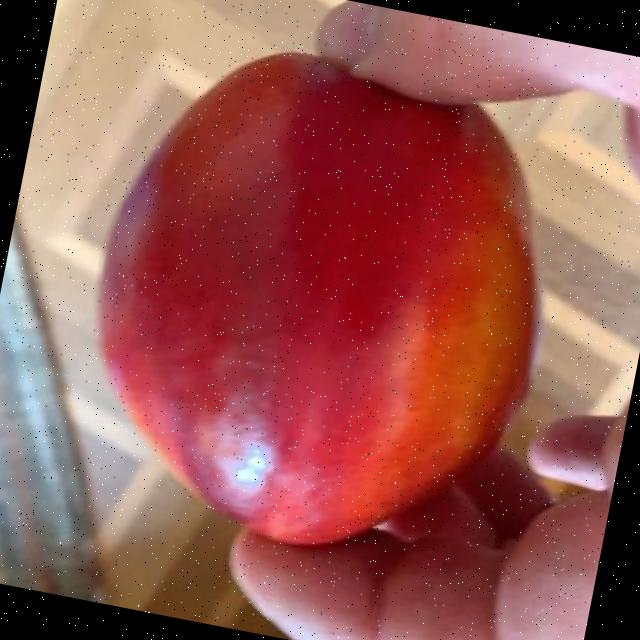peach: (100, 66, 533, 541)
